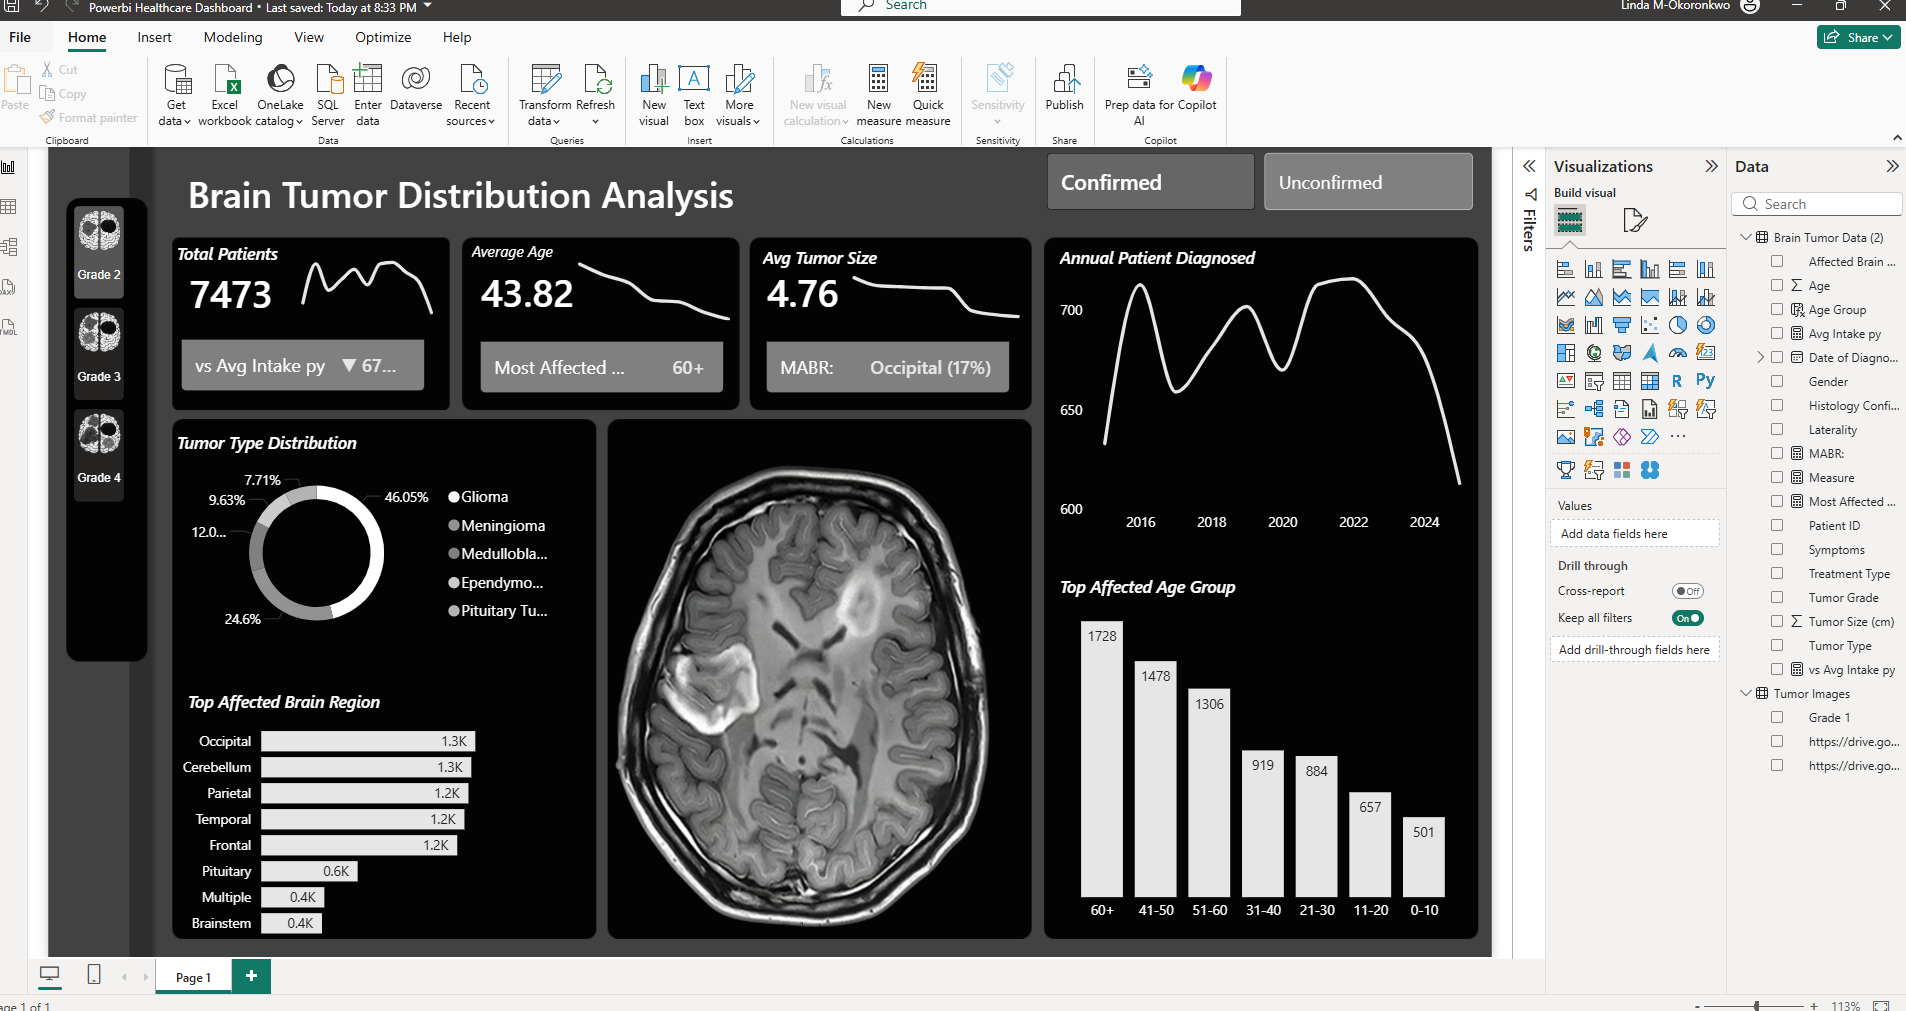

What the dashboard file says about the page in this screenshot:
{"tool":"powerbi","page":{"name":"Page 1","canvas":[1280,720],"ordinal":0},"visuals":[{"type":"cardVisual","fields":{"Data":["Count(Brain Tumor Data (2).Patient ID)"]},"box":[97,79,187,97],"z":0},{"type":"lineChart","fields":{"Category":["Brain Tumor Data (2).Date of Diagnosis.Variation.Date Hierarchy.Year"],"Y":["CountNonNull(Brain Tumor Data (2).Patient ID)"]},"box":[211,74,144,85],"z":1000},{"type":"cardVisual","fields":{"Data":["Count(Brain Tumor Data (2).Patient ID)"]},"box":[89.6,71.8,273.1,173.8],"z":2000},{"type":"textbox","box":[108.9,78.8,204.3,34],"z":3000},{"type":"cardVisual","fields":{"Data":["Avg(Brain Tumor Data (2).Age)"]},"box":[355,78.8,186.7,96.3],"z":4000},{"type":"lineChart","fields":{"Y":["CountNonNull(Brain Tumor Data (2).Patient ID)"],"Category":["Brain Tumor Data (2).Age Group"]},"box":[457.1,78.8,159.5,79.8],"z":5000},{"type":"cardVisual","fields":{"Data":["Count(Brain Tumor Data (2).Patient ID)"]},"box":[355,73.9,273.3,173.1],"z":6000},{"type":"textbox","box":[370.6,78.8,213,40.9],"z":7000},{"type":"cardVisual","fields":{"Data":["Avg(Brain Tumor Data (2).Tumor Size (cm))"]},"box":[607.9,78.8,186.7,96.3],"z":8000},{"type":"lineChart","fields":{"Category":["Brain Tumor Data (2).Affected Brain Region"],"Y":["Sum(Brain Tumor Data (2).Tumor Size (cm))"]},"box":[701.3,100.2,172.2,60.3],"z":9000},{"type":"cardVisual","fields":{"Data":["Count(Brain Tumor Data (2).Patient ID)"]},"box":[607.9,73.9,273.3,173.1],"z":10000},{"type":"textbox","box":[628.3,82.7,176,34],"z":11000},{"type":"advancedSlicerVisual","fields":{"Values":["Brain Tumor Data (2).Histology Confirmation"]},"box":[880.5,0,389.3,61.2],"z":12000},{"type":"ChicletSlicer1448559807354","fields":{"Category":["Tumor Images.Grade 1"],"Image":["Tumor Images.https://drive.google.com/thumbnail?id=1k4g35fqeNt3WtbXea7dTbbwtN7OnR715&sz=w1000"]},"box":[14.6,43.8,73.9,414.3],"z":13000},{"type":"image","box":[491.2,257.1,359.1,454.9],"z":14000},{"type":"donutChart","fields":{"Category":["Brain Tumor Data (2).Tumor Type"],"Y":["CountNonNull(Brain Tumor Data (2).Patient ID)"]},"box":[117.9,273.1,339.6,173.8],"z":15000},{"type":"textbox","box":[109.1,246.5,233.2,39],"z":16000},{"type":"clusteredBarChart","fields":{"Category":["Brain Tumor Data (2).Affected Brain Region"],"Y":["CountNonNull(Brain Tumor Data (2).Patient ID)"]},"box":[109.1,495.7,311.2,216.4],"z":17000},{"type":"textbox","box":[118.8,476.2,387.5,39],"z":18000},{"type":"lineChart","fields":{"Category":["Brain Tumor Data (2).Date of Diagnosis.Variation.Date Hierarchy.Year"],"Y":["CountNonNull(Brain Tumor Data (2).Patient ID)"]},"box":[892,95.8,377.7,255.4],"z":18001},{"type":"textbox","box":[892,82.5,211.9,42.6],"z":18002},{"type":"clusteredColumnChart","fields":{"Category":["Brain Tumor Data (2).Age Group"],"Y":["CountNonNull(Brain Tumor Data (2).Patient ID)"]},"box":[892,381.3,371.5,313.9],"z":18003},{"type":"textbox","box":[892,374.2,299.7,41.7],"z":18004},{"type":"textbox","box":[118.8,14.2,542.7,59.4],"z":18005}]}

Visuals, with their boxes on the page's 1280x720 design canvas (x1, y1, x2, y2). These are canvas units, not pixel positions in the 1906x1011 screenshot, which may show the page scaled, cropped or inside an application window:
cardVisual - Count(Brain Tumor Data (2).Patient ID): {"left": 97, "top": 79, "right": 284, "bottom": 176}
lineChart - Brain Tumor Data (2).Date of Diagnosis.Variation.Date Hierarchy.Year x CountNonNull(Brain Tumor Data (2).Patient ID): {"left": 211, "top": 74, "right": 355, "bottom": 159}
cardVisual - Count(Brain Tumor Data (2).Patient ID): {"left": 90, "top": 72, "right": 363, "bottom": 246}
textbox: {"left": 109, "top": 79, "right": 313, "bottom": 113}
cardVisual - Avg(Brain Tumor Data (2).Age): {"left": 355, "top": 79, "right": 542, "bottom": 175}
lineChart - CountNonNull(Brain Tumor Data (2).Patient ID) x Brain Tumor Data (2).Age Group: {"left": 457, "top": 79, "right": 617, "bottom": 159}
cardVisual - Count(Brain Tumor Data (2).Patient ID): {"left": 355, "top": 74, "right": 628, "bottom": 247}
textbox: {"left": 371, "top": 79, "right": 584, "bottom": 120}
cardVisual - Avg(Brain Tumor Data (2).Tumor Size (cm)): {"left": 608, "top": 79, "right": 795, "bottom": 175}
lineChart - Brain Tumor Data (2).Affected Brain Region x Sum(Brain Tumor Data (2).Tumor Size (cm)): {"left": 701, "top": 100, "right": 874, "bottom": 160}
cardVisual - Count(Brain Tumor Data (2).Patient ID): {"left": 608, "top": 74, "right": 881, "bottom": 247}
textbox: {"left": 628, "top": 83, "right": 804, "bottom": 117}
advancedSlicerVisual - Brain Tumor Data (2).Histology Confirmation: {"left": 880, "top": 0, "right": 1270, "bottom": 61}
ChicletSlicer1448559807354 - Tumor Images.Grade 1 x Tumor Images.https://drive.google.com/thumbnail?id=1k4g35fqeNt3WtbXea7dTbbwtN7OnR715&sz=w1000: {"left": 15, "top": 44, "right": 88, "bottom": 458}
image: {"left": 491, "top": 257, "right": 850, "bottom": 712}
donutChart - Brain Tumor Data (2).Tumor Type x CountNonNull(Brain Tumor Data (2).Patient ID): {"left": 118, "top": 273, "right": 458, "bottom": 447}
textbox: {"left": 109, "top": 246, "right": 342, "bottom": 286}
clusteredBarChart - Brain Tumor Data (2).Affected Brain Region x CountNonNull(Brain Tumor Data (2).Patient ID): {"left": 109, "top": 496, "right": 420, "bottom": 712}
textbox: {"left": 119, "top": 476, "right": 506, "bottom": 515}
lineChart - Brain Tumor Data (2).Date of Diagnosis.Variation.Date Hierarchy.Year x CountNonNull(Brain Tumor Data (2).Patient ID): {"left": 892, "top": 96, "right": 1270, "bottom": 351}
textbox: {"left": 892, "top": 82, "right": 1104, "bottom": 125}
clusteredColumnChart - Brain Tumor Data (2).Age Group x CountNonNull(Brain Tumor Data (2).Patient ID): {"left": 892, "top": 381, "right": 1264, "bottom": 695}
textbox: {"left": 892, "top": 374, "right": 1192, "bottom": 416}
textbox: {"left": 119, "top": 14, "right": 662, "bottom": 74}
